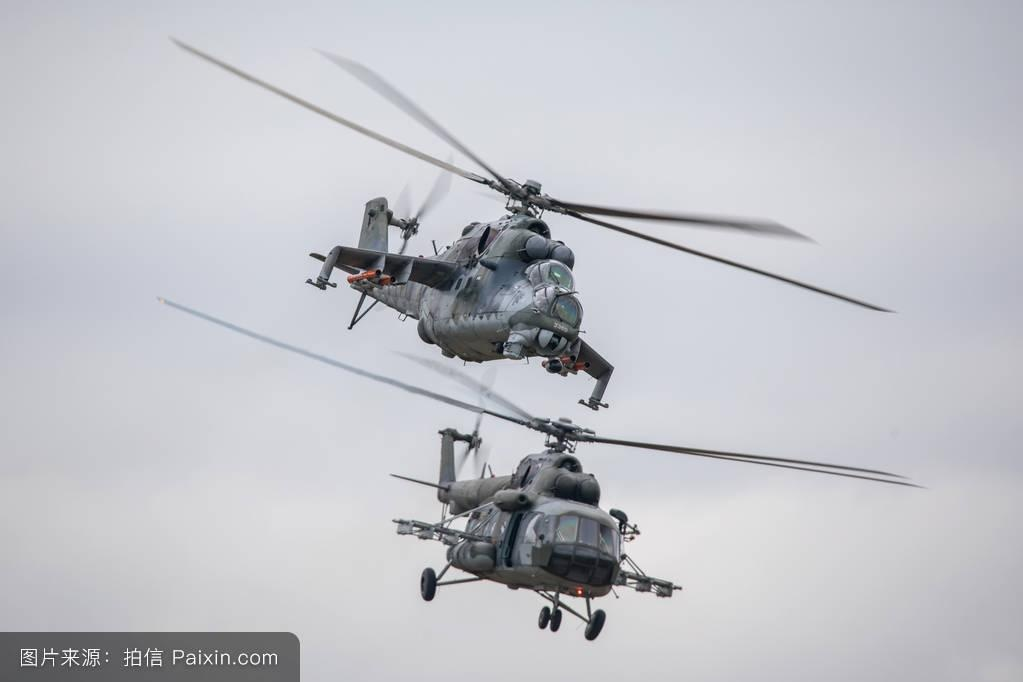airplane: (160, 28, 847, 354), (154, 357, 924, 637)
